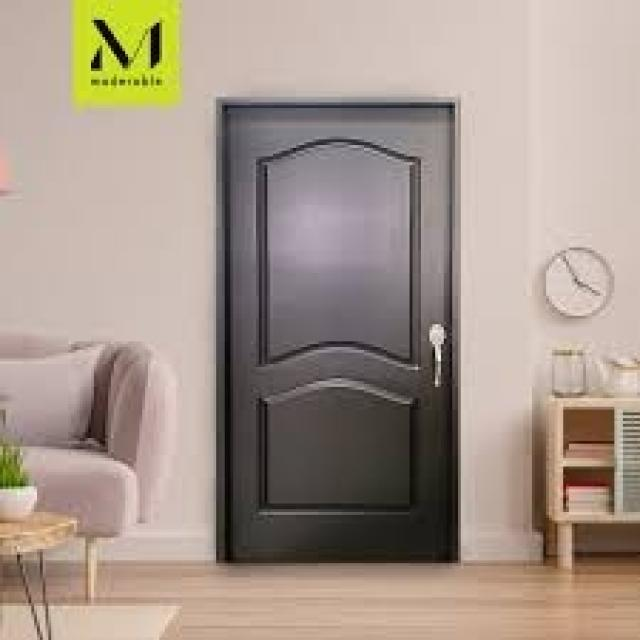door: (218, 97, 460, 563)
